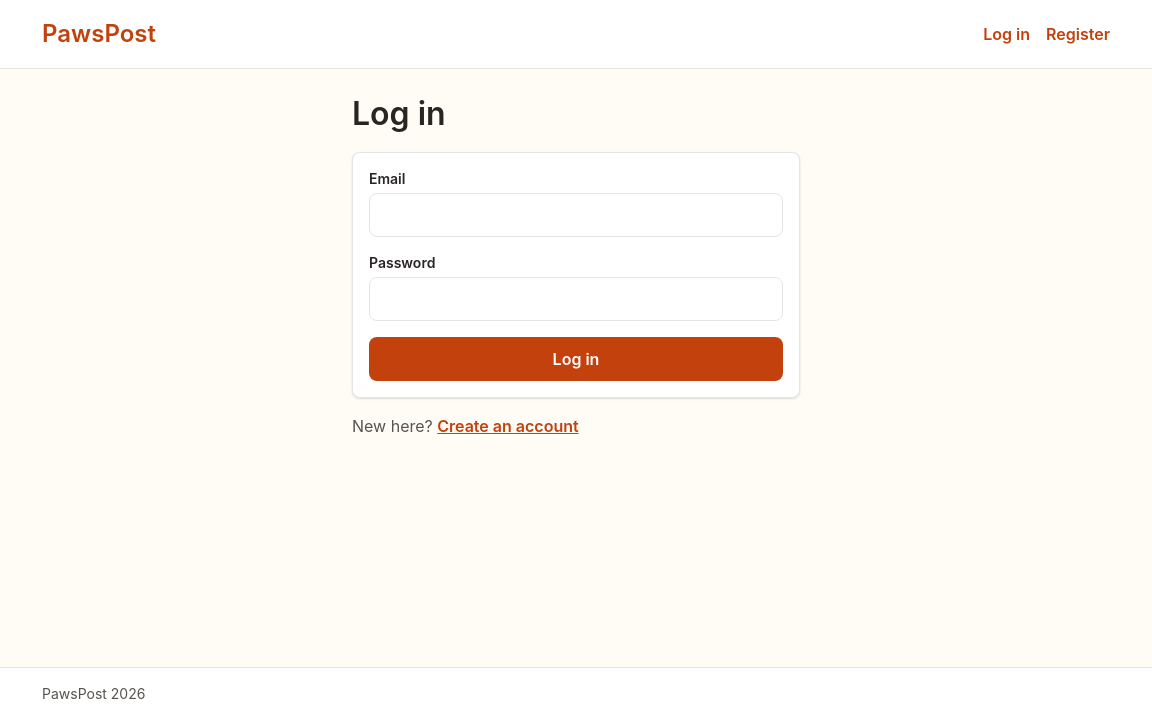
it: LoginPage › shows Please enter messages and does not call the API when the fields are empty
Click the button "Log in" at x=576, y=359, box [369,337,783,381]
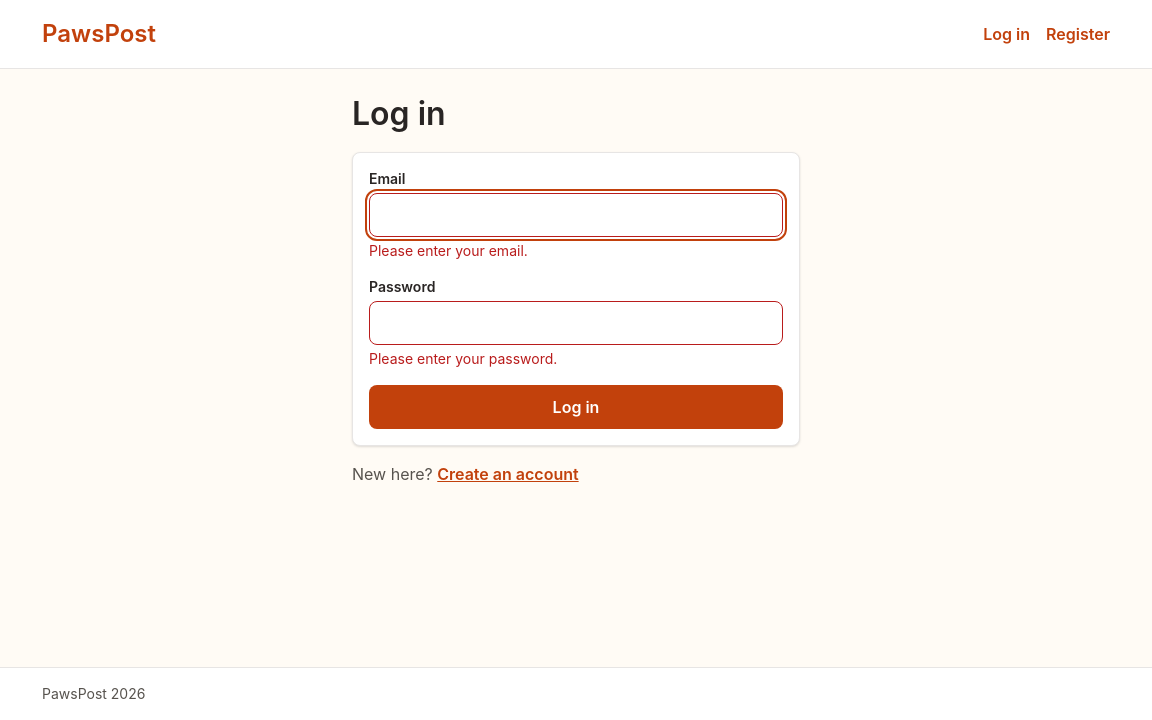
Now the text "Please enter your email." is shown, box [369,242,528,259]
Now the text "Please enter your password." is shown, box [369,350,557,367]
